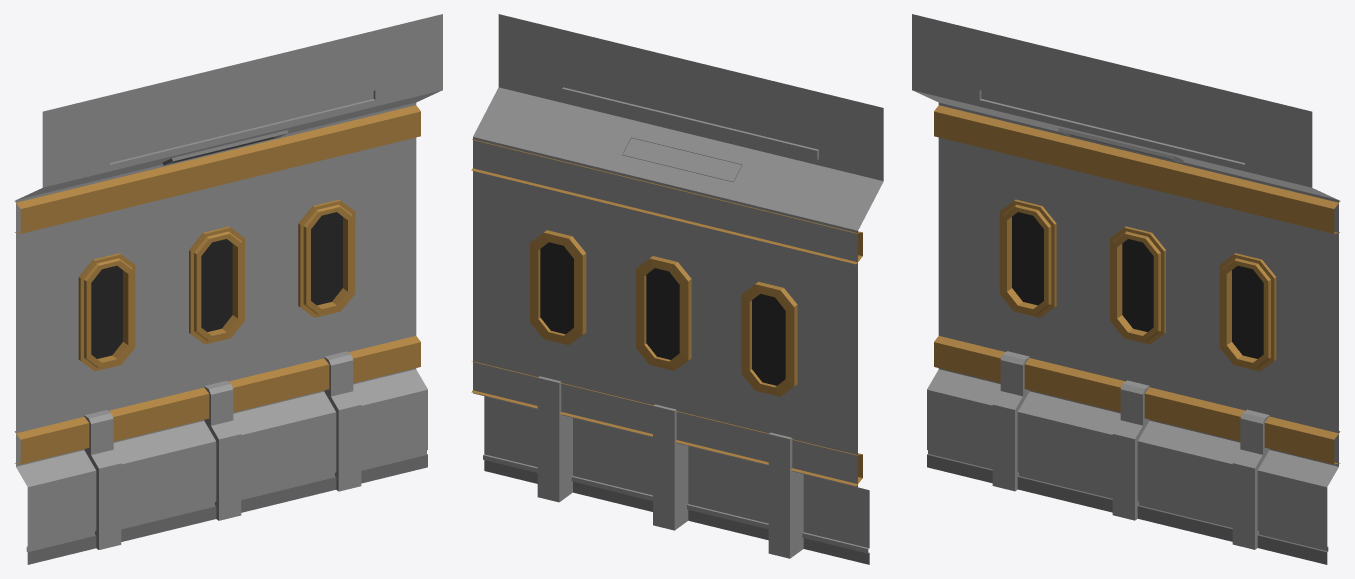
File: threewindows-wall-sideb-db9373c5ce.glb
The picture shows the model from 3 angles, left to right: view 1: azimuth 30°, elevation 25°; view 2: azimuth 150°, elevation 25°; view 3: azimuth 330°, elevation 25°; orthographic projection. The views are drawn at different scales.
Parts seen in each view (by area): view 1: ThreeWindows_Wall_SideB.obj; view 2: ThreeWindows_Wall_SideB.obj; view 3: ThreeWindows_Wall_SideB.obj.
Part boxes in pixels (x1=…): ThreeWindows_Wall_SideB.obj: x1=14, y1=14, x2=442, y2=564; ThreeWindows_Wall_SideB.obj: x1=471, y1=14, x2=883, y2=564; ThreeWindows_Wall_SideB.obj: x1=912, y1=14, x2=1340, y2=564.
Bounding box in the file's own units: 4 × 4.43 × 0.5261.
